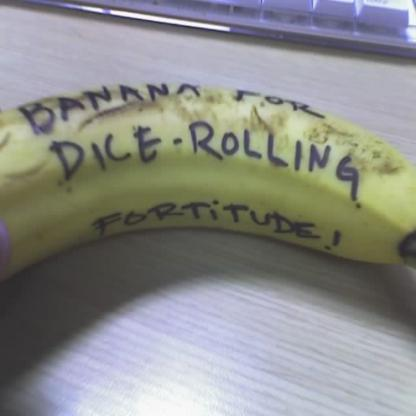Banana: (0, 80, 415, 283)
